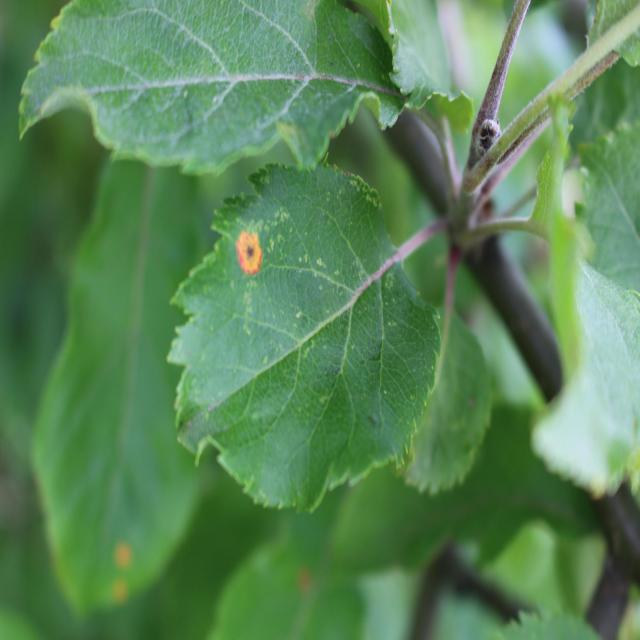Rust: (227, 204, 271, 292)
